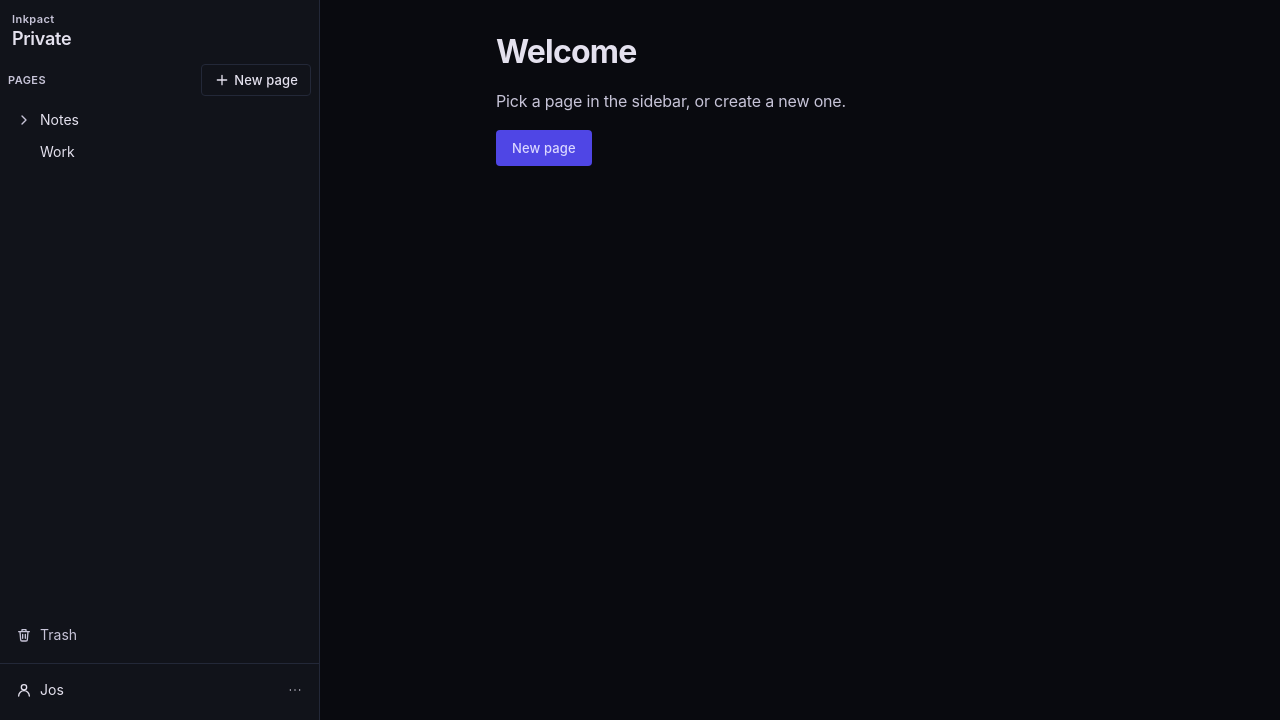
Test: AppShell on a wide screen › opens a page in the page area when it is clicked in the tree, and marks it
Click the list item "Work" at (57, 152), box [40,143,75,160]
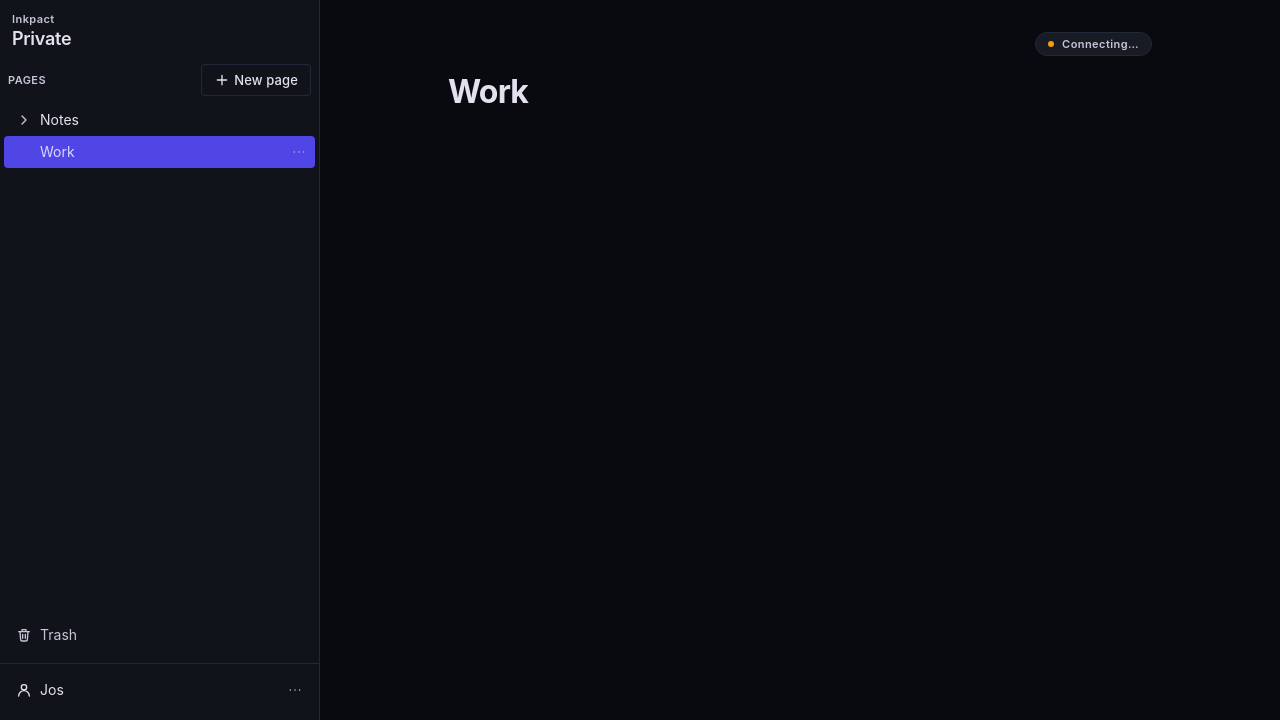
Result: the text box with test id "page-title" holds "Work" at [448,72,1152,112]
